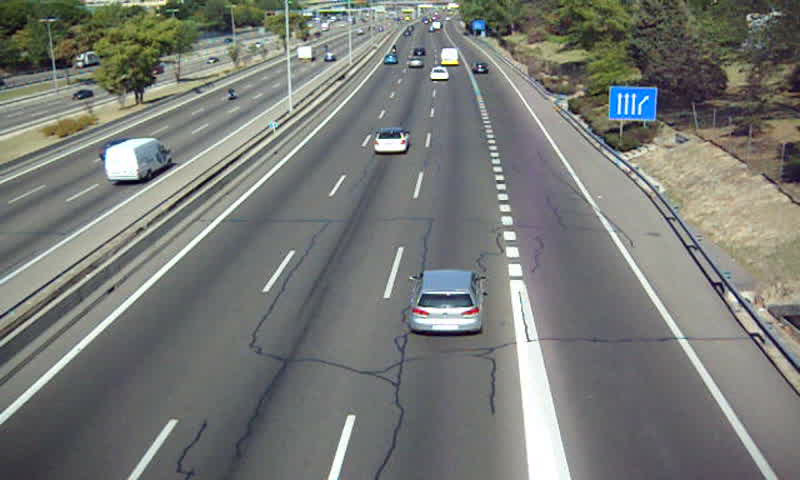car: (409, 269, 483, 333), (373, 129, 409, 153), (429, 68, 450, 81), (471, 62, 489, 76)
